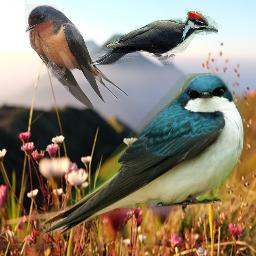Swallow: (39, 73, 246, 236), (25, 4, 128, 109)
Woodpecker: (91, 11, 218, 65)
